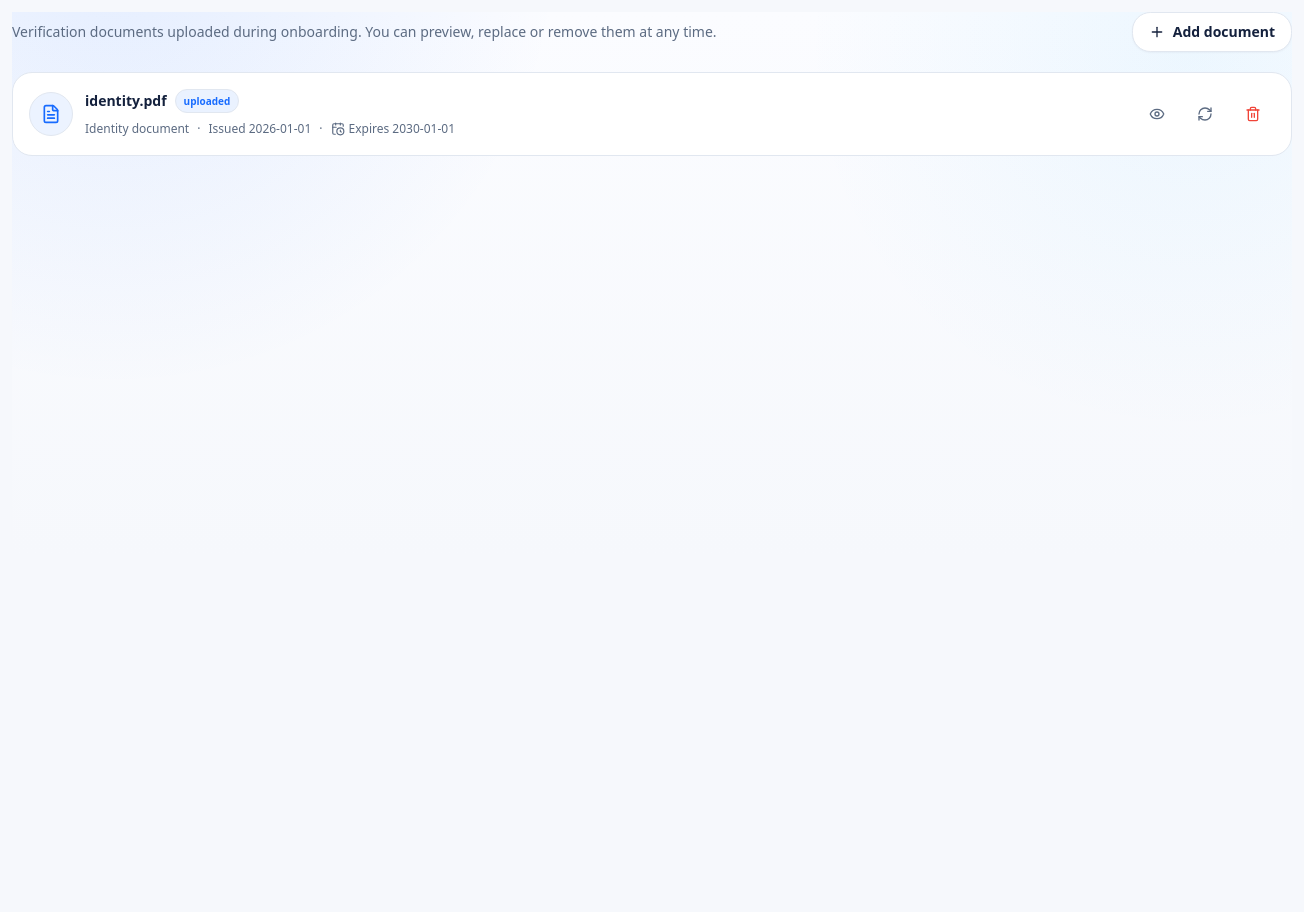
it: ProfileDocumentsManager › pre-fills the replace editor with the current document metadata
Step 1. Click the button named "Replace identity.pdf" → (1205, 114), box [1183,92,1227,136]
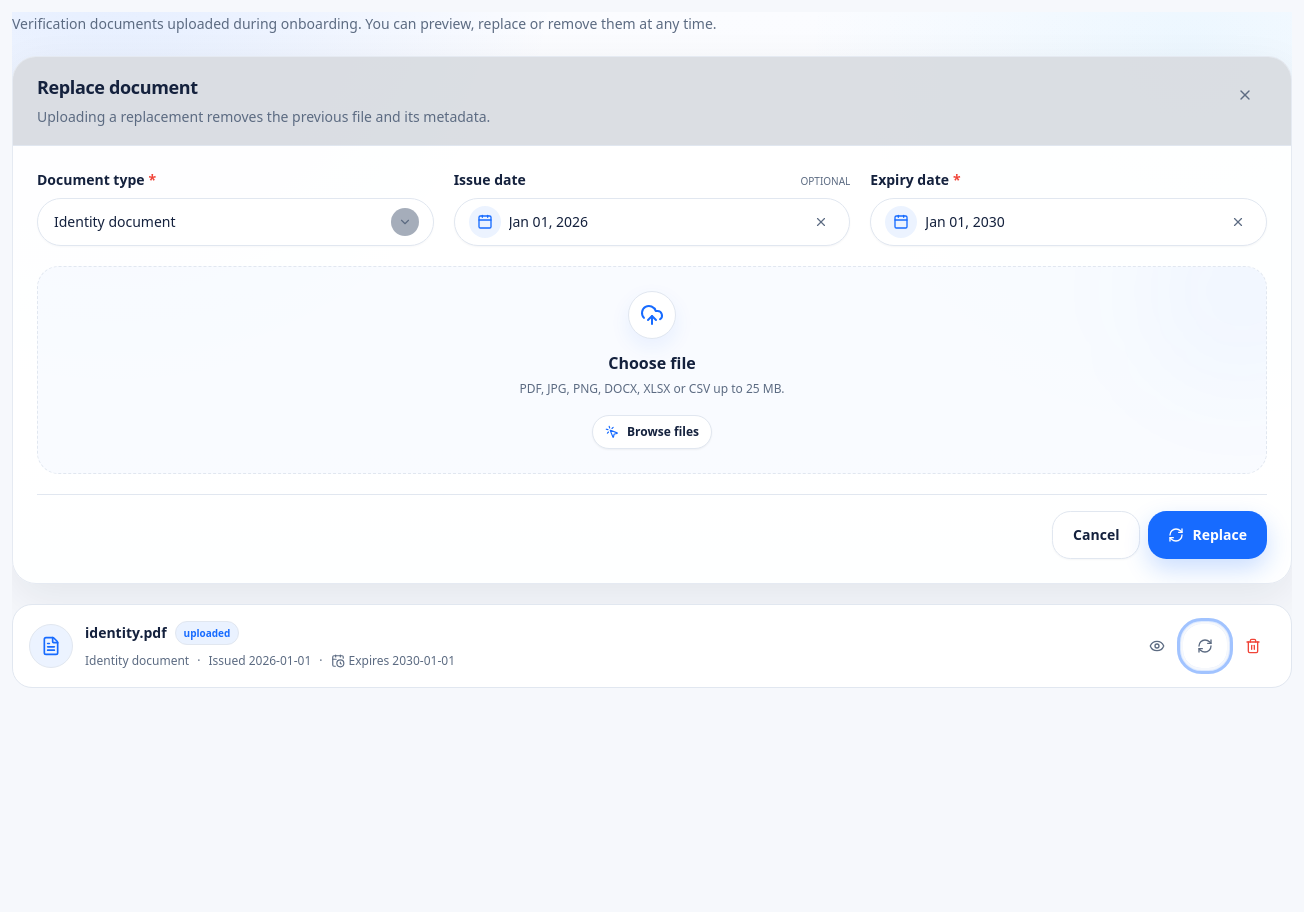
Expected: the text "identity.pdf" is shown, [85,623,167,643]
Expected: the heading "Replace document" is shown, [37,75,198,99]
